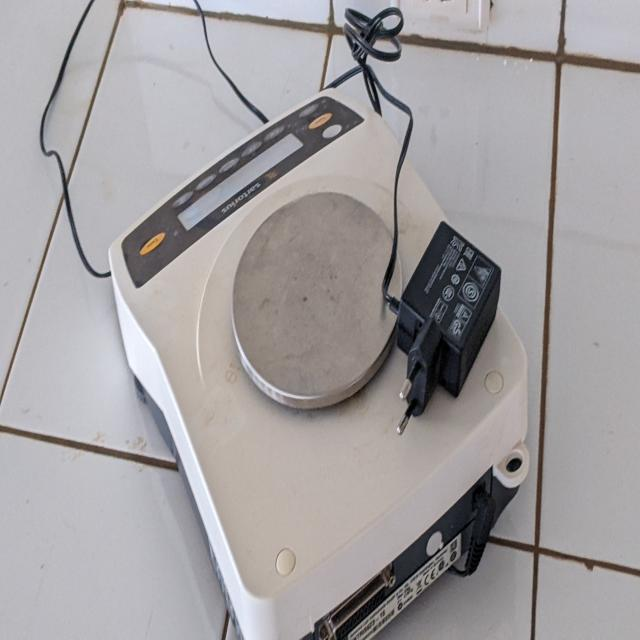Electronic Balance: (100, 78, 536, 640)
